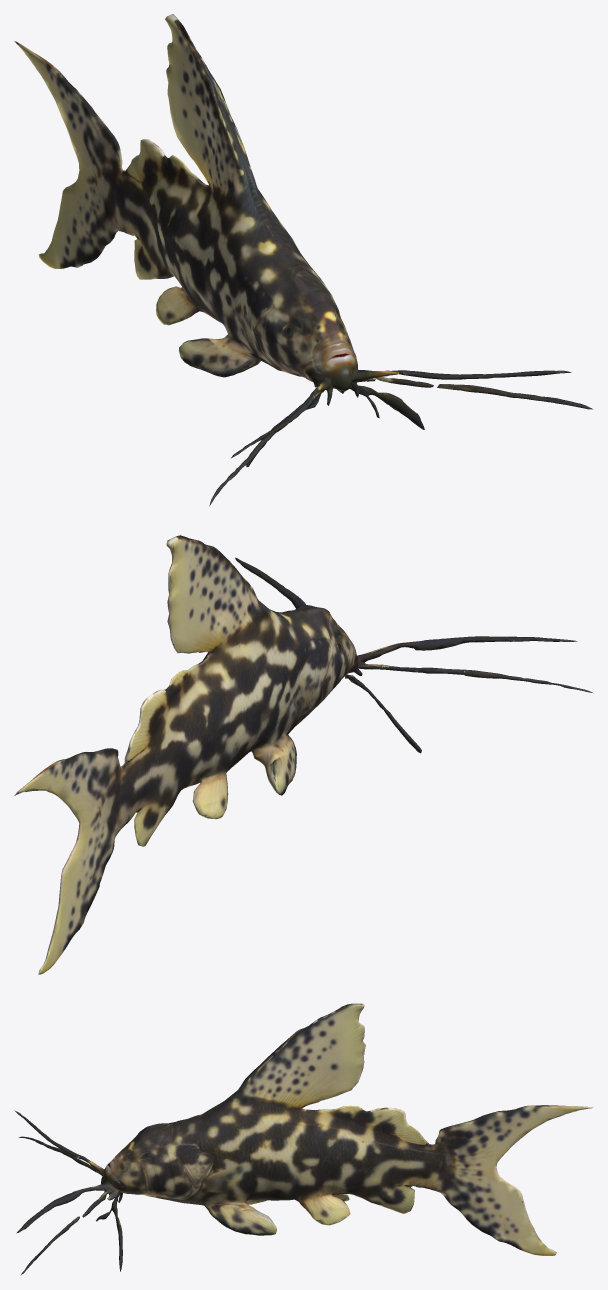
The model's file is synodontis_0604072318_texture.glb.
3 views of the same model, one above another, from view 1: azimuth 30°, elevation 25°; view 2: azimuth 150°, elevation 25°; view 3: azimuth 270°, elevation 25° (orthographic). The views are drawn at different scales.
Bounding box in the file's own units: 1.12 × 0.9474 × 1.97.
Materials: 1 (1 with a texture image).
